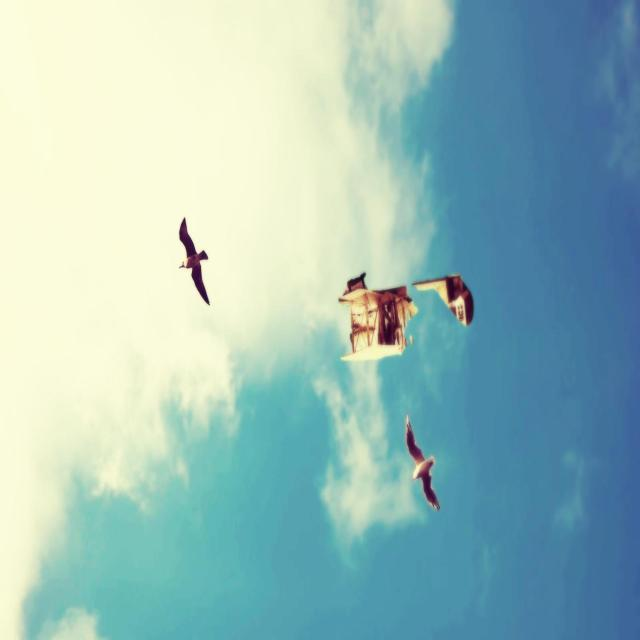airplane: (336, 270, 475, 363)
